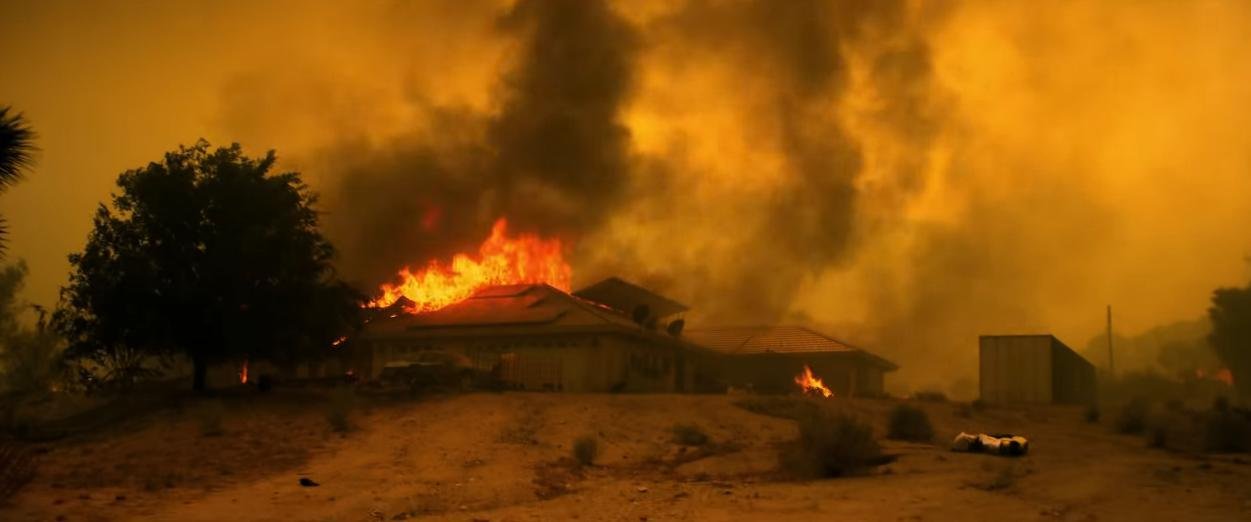Fire: (357, 216, 579, 322), (794, 362, 837, 401)
